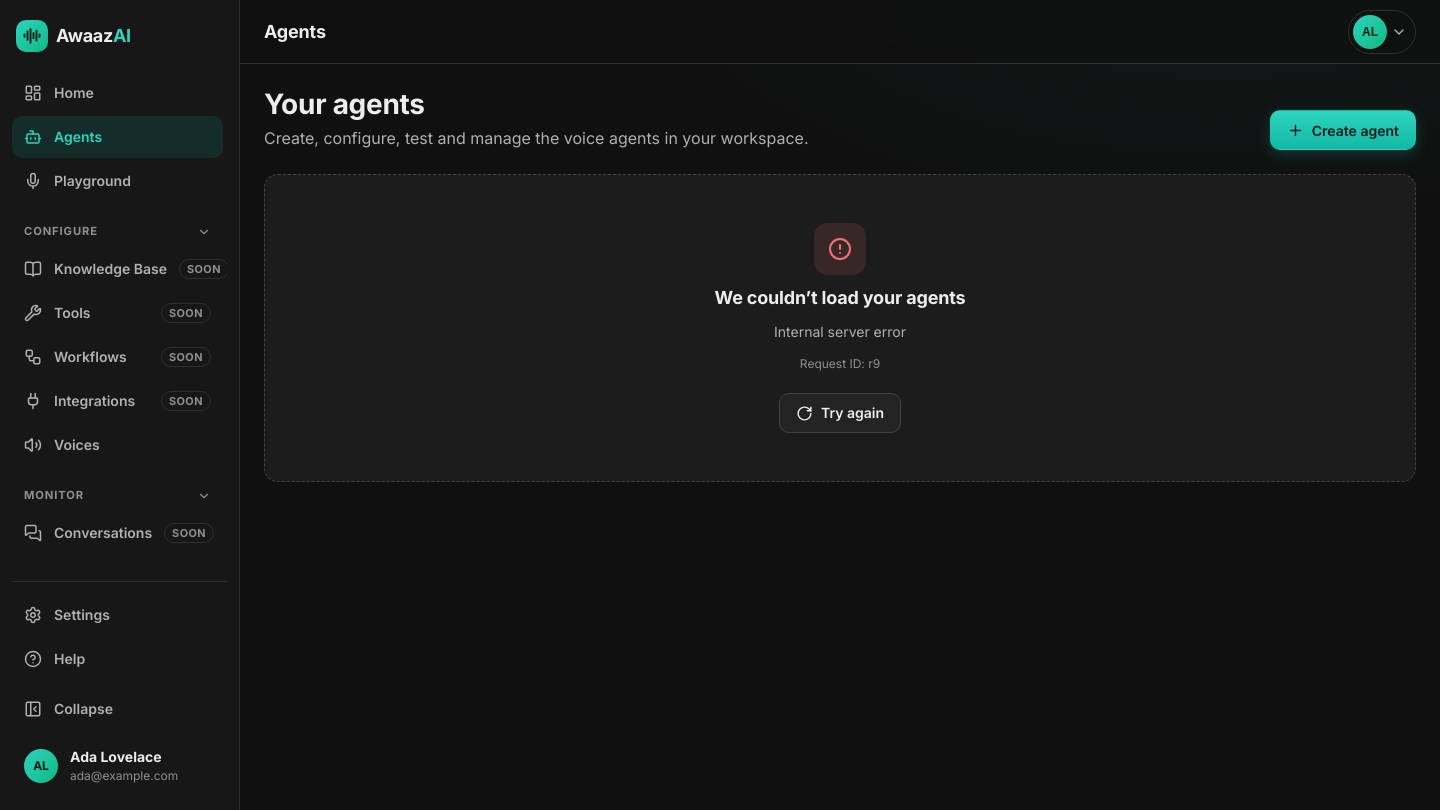
Test: agents list › shows the error and retries on request
Expected: the heading "We couldn’t load your agents" is shown, [714, 287, 965, 309]
Expected: the text "Internal server error" is shown, [774, 321, 906, 343]
Click the button "Try again".
click(840, 413)  # box [779, 393, 901, 433]
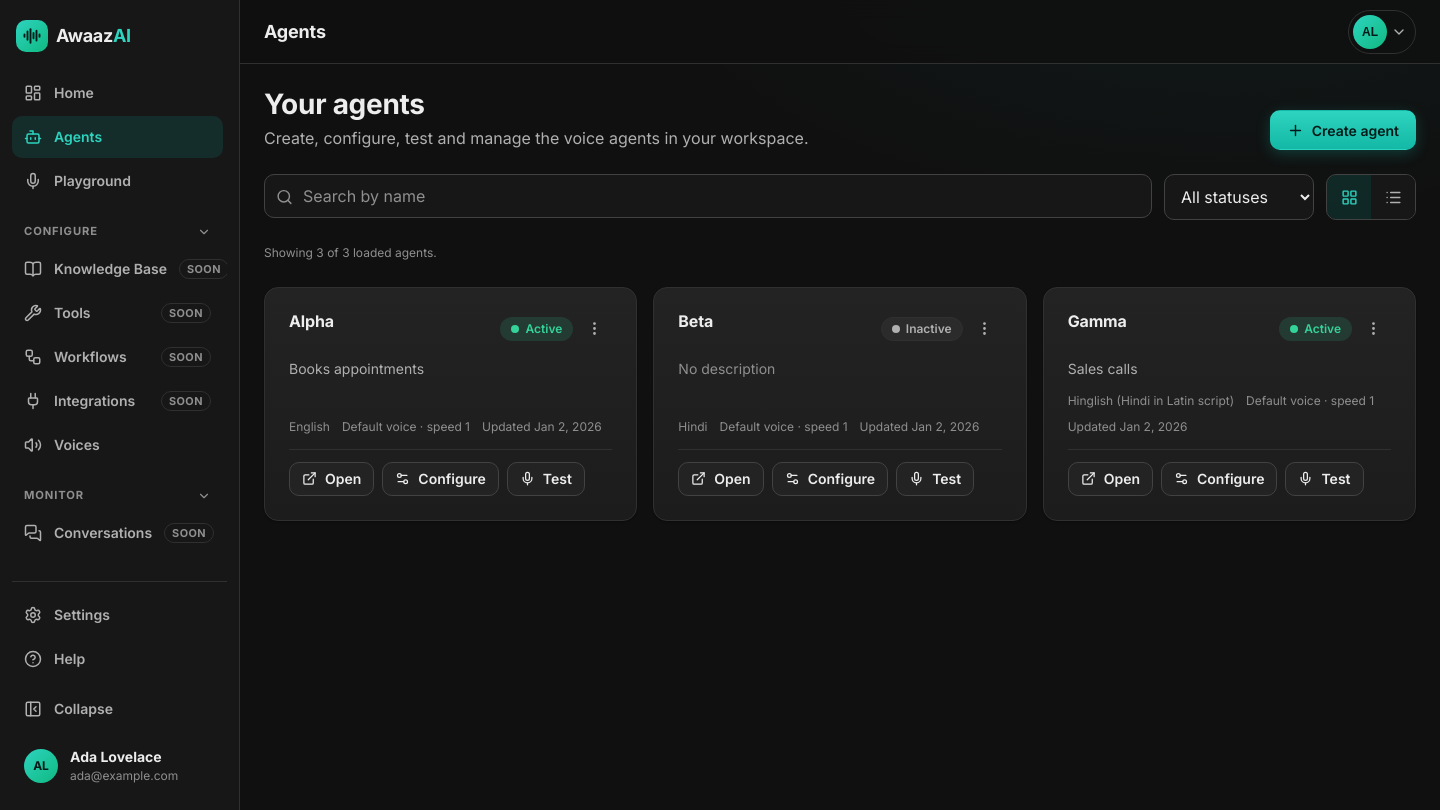
Result: the link "Alpha" is shown at [289, 311, 334, 331]
